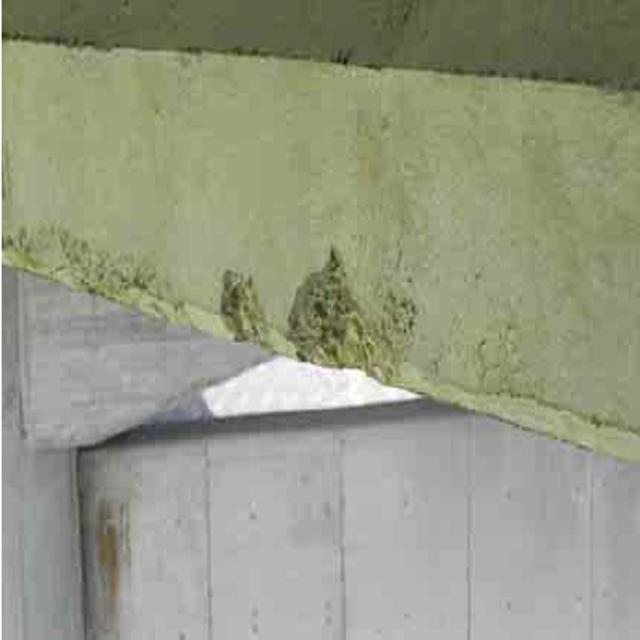spalling: (26, 200, 433, 383)
